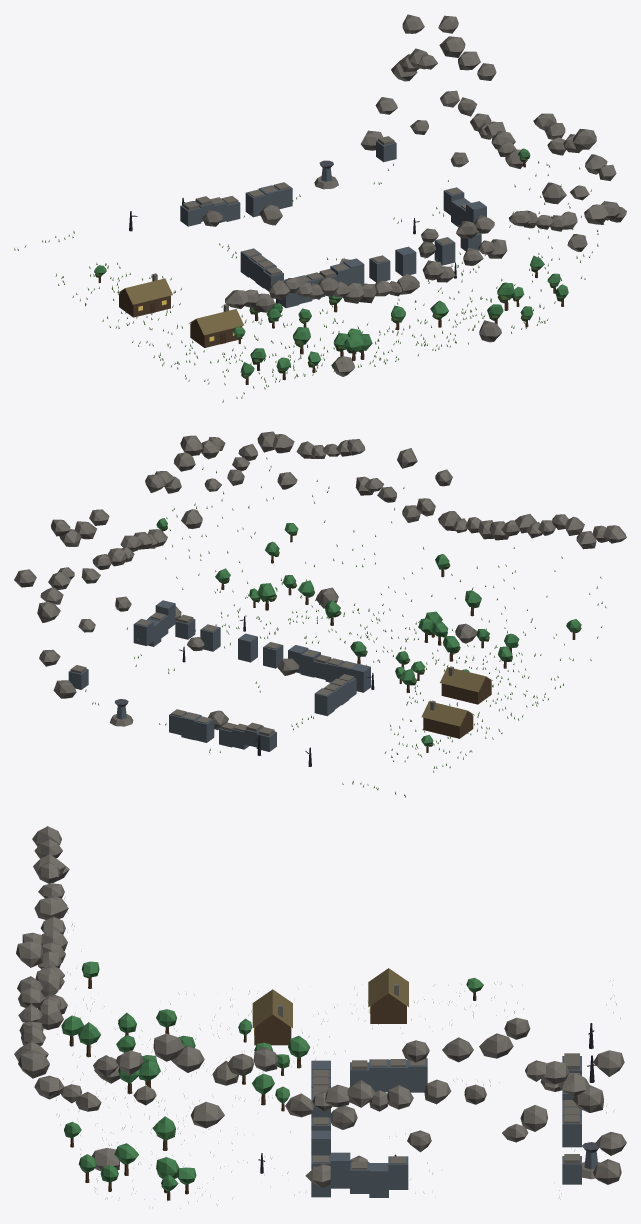
Rendered from scenery-3.glb.
The picture shows the model from 3 angles, top to bottom: view 1: azimuth 30°, elevation 25°; view 2: azimuth 150°, elevation 25°; view 3: azimuth 270°, elevation 25°; orthographic projection. The views are drawn at different scales.
Visible parts, largest first — view 1: Sector_7_5, Sector_5_7, Sector_7_4, Sector_7_6, Sector_7_7, Sector_6_7, Sector_4_7, Sector_4_6, Sector_6_4, Sector_5_5, Sector_6_5, Sector_4_5 (+2 smaller); view 2: Sector_7_5, Sector_5_7, Sector_7_4, Sector_7_7, Sector_7_6, Sector_6_7, Sector_5_5, Sector_4_7, Sector_4_6, Sector_6_5, Sector_6_4, Sector_4_5 (+2 smaller); view 3: Sector_7_5, Sector_7_4, Sector_7_6, Sector_7_7, Sector_5_7, Sector_6_7, Sector_4_7, Sector_5_5, Sector_4_6, Sector_4_5, Sector_6_4, Sector_6_5 (+3 smaller).
Boxes of the visible parts, bbox=[...] form: Sector_7_5: bbox=[393, 51, 516, 265]; Sector_5_7: bbox=[307, 241, 443, 376]; Sector_7_4: bbox=[361, 14, 465, 184]; Sector_7_6: bbox=[451, 113, 596, 310]; Sector_7_7: bbox=[520, 154, 626, 328]; Sector_6_7: bbox=[412, 210, 553, 350]; Sector_4_7: bbox=[222, 277, 338, 402]; Sector_4_6: bbox=[132, 304, 276, 384]; Sector_6_4: bbox=[243, 160, 338, 225]; Sector_5_5: bbox=[221, 248, 338, 317]; Sector_6_5: bbox=[326, 246, 437, 285]; Sector_4_5: bbox=[72, 273, 182, 334]; Sector_7_5: bbox=[74, 509, 220, 673]; Sector_5_7: bbox=[383, 469, 519, 648]; Sector_7_4: bbox=[14, 519, 100, 705]; Sector_7_7: bbox=[201, 431, 326, 602]; Sector_7_6: bbox=[145, 435, 276, 634]; Sector_6_7: bbox=[298, 439, 420, 629]; Sector_5_5: bbox=[308, 655, 415, 719]; Sector_4_7: bbox=[485, 514, 626, 664]; Sector_4_6: bbox=[440, 646, 563, 720]; Sector_6_5: bbox=[218, 633, 320, 692]; Sector_6_4: bbox=[110, 699, 228, 742]; Sector_4_5: bbox=[390, 699, 502, 759]; Sector_7_5: bbox=[305, 1037, 473, 1197]; Sector_7_4: bbox=[464, 1017, 626, 1199]; Sector_7_6: bbox=[153, 1033, 313, 1208]; Sector_7_7: bbox=[14, 1021, 156, 1207]; Sector_5_7: bbox=[22, 916, 160, 1119]; Sector_6_7: bbox=[16, 941, 151, 1181]; Sector_4_7: bbox=[32, 826, 152, 1053]; Sector_5_5: bbox=[311, 1051, 462, 1092]; Sector_4_6: bbox=[156, 989, 309, 1051]; Sector_4_5: bbox=[313, 968, 465, 1053]; Sector_6_4: bbox=[520, 1100, 600, 1179]; Sector_6_5: bbox=[311, 1090, 405, 1155].
Size of the model in its own units: 32.08 by 13.22 by 31.74.
Materials: 1 (1 with a texture image).
